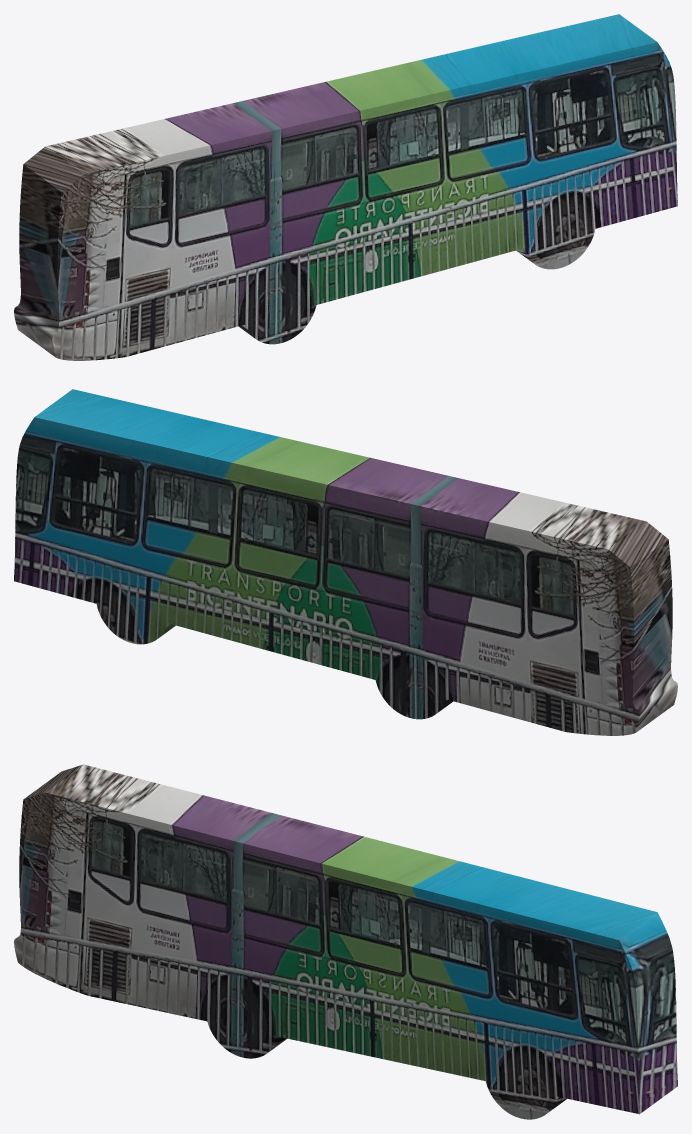
Rendered from municipalbus2.fbx.
3 renders of one model, top to bottom at view 1: azimuth 30°, elevation 25°; view 2: azimuth 150°, elevation 25°; view 3: azimuth 330°, elevation 25°, orthographic.
Visible parts, largest first — view 1: Body1, Body17, Body16, Body2, Body15, Body5, Body31, Body32, Body4, Body7, Body9, Body6 (+11 smaller); view 2: Body1, Body17, Body16, Body2, Body15, Body5, Body31, Body32, Body4, Body7, Body9, Body6 (+11 smaller); view 3: Body1, Body17, Body16, Body32, Body2, Body15, Body5, Body4, Body7, Body9, Body11, Body8 (+11 smaller).
Part boxes in pixels (x1,y1,x2,y2): Body1: (14, 118, 315, 360); Body17: (411, 14, 671, 228); Body16: (322, 62, 523, 276); Body2: (168, 83, 371, 184); Body15: (311, 179, 420, 304); Body5: (178, 161, 270, 247); Body31: (19, 220, 88, 330); Body32: (581, 70, 677, 228); Body4: (529, 78, 609, 161); Body7: (446, 98, 526, 181); Body9: (277, 140, 356, 222); Body6: (19, 146, 83, 247); Body1: (376, 493, 677, 735); Body17: (20, 389, 280, 603); Body16: (168, 437, 369, 651); Body2: (320, 458, 523, 559); Body15: (271, 554, 380, 679); Body5: (421, 536, 513, 622); Body31: (603, 595, 672, 705); Body32: (14, 445, 110, 603); Body4: (82, 453, 162, 536); Body7: (165, 473, 245, 556); Body9: (335, 515, 414, 597); Body6: (608, 521, 672, 622); Body1: (14, 764, 277, 1021); Body17: (410, 858, 671, 1061); Body16: (321, 835, 485, 1080); Body32: (543, 947, 677, 1114); Body2: (167, 796, 359, 937); Body15: (272, 937, 381, 1058); Body5: (139, 847, 232, 933); Body4: (491, 933, 570, 1016); Body7: (408, 913, 487, 996); Body9: (239, 872, 318, 952); Body11: (332, 894, 404, 975); Body8: (571, 963, 621, 1052).
Size of the model in its own units: 266 by 88.25 by 28.25.
1 material, 1 textured.
